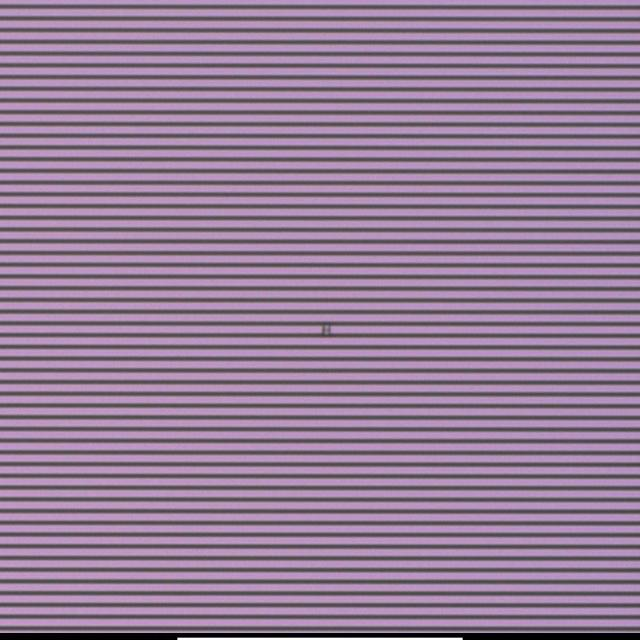03_intrusion: (316, 321, 338, 339)
